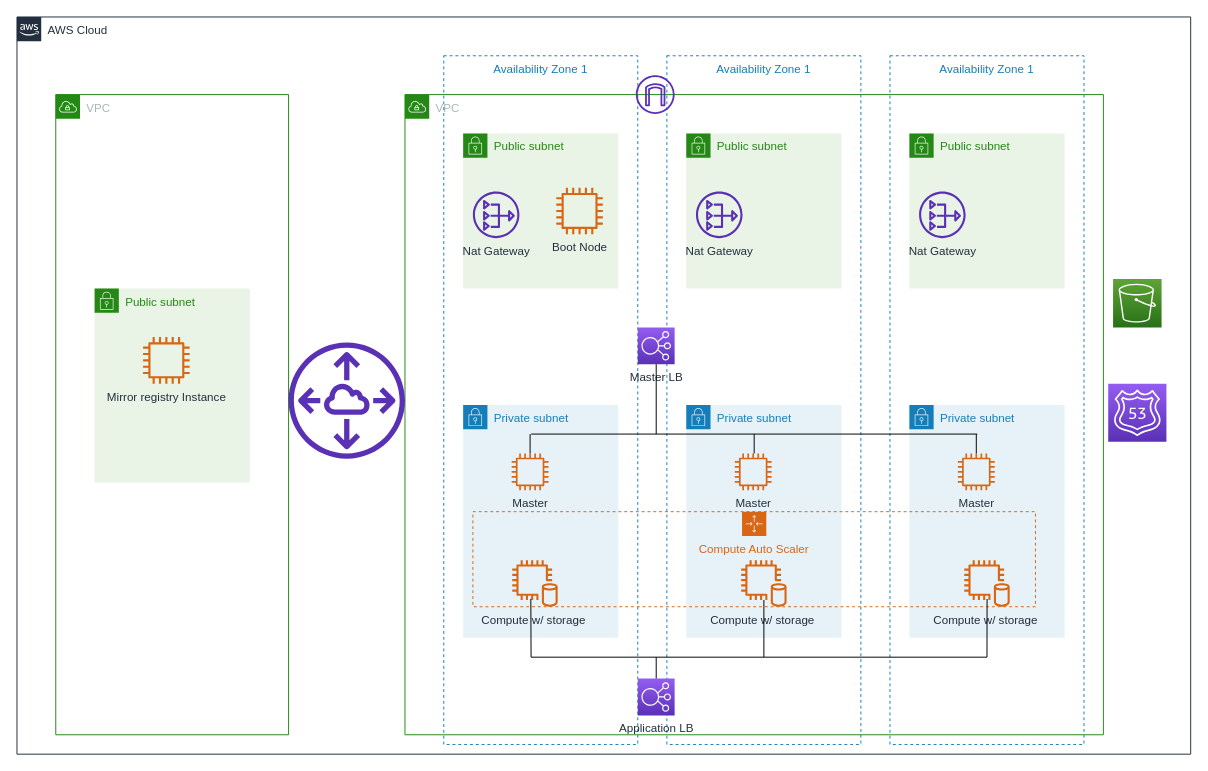
The diagram is 1208 pixels wide and 771 high, and some of its shapes have lost their labels. The centre of each missing label's shape, as x and y in pixels:
"Amazon Route 53" goes at point (1136, 412).
"Amazon S3" goes at point (1137, 302).
"Internet Gateway" goes at point (654, 94).
"Vpc Peering" goes at point (346, 400).
